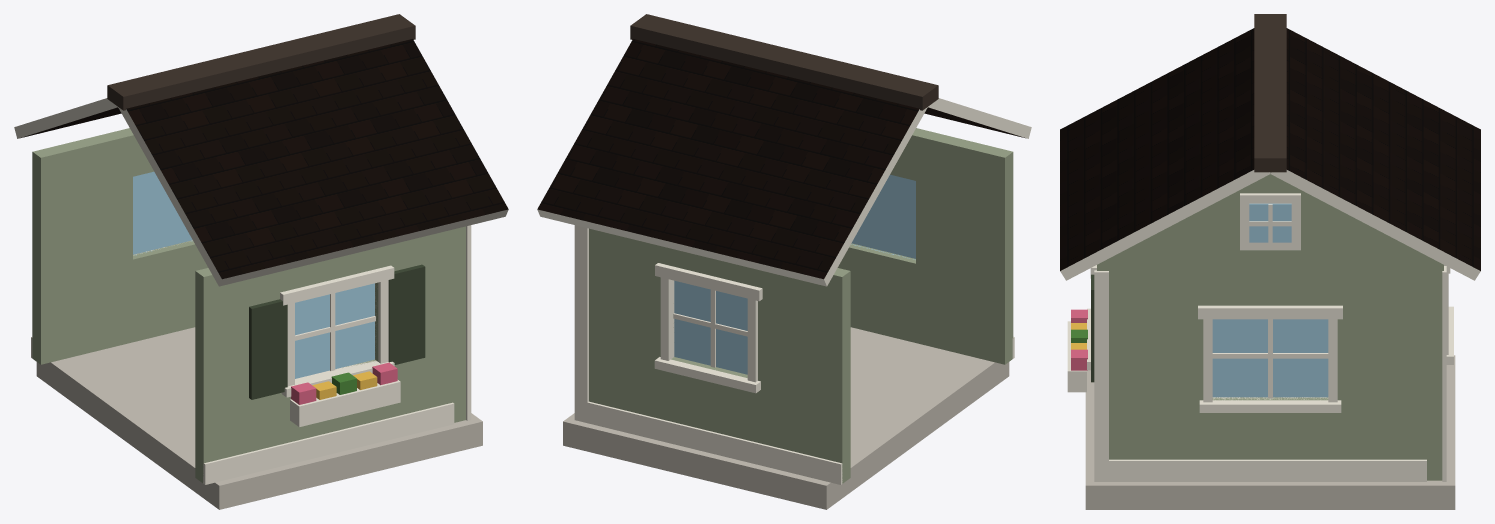
File: piece-addition.glb
The picture shows the model from 3 angles, left to right: view 1: azimuth 30°, elevation 25°; view 2: azimuth 150°, elevation 25°; view 3: azimuth 270°, elevation 25°; orthographic projection.
Visible parts, largest first — view 1: piece_addition; view 2: piece_addition; view 3: piece_addition.
Boxes of the visible parts, x1,y1,x2,y2 form: piece_addition: [14, 14, 508, 509]; piece_addition: [537, 14, 1031, 509]; piece_addition: [1060, 14, 1480, 509].
Size of the model in its own units: 4.43 by 5.15 by 5.46.
11 materials, 1 textured.
